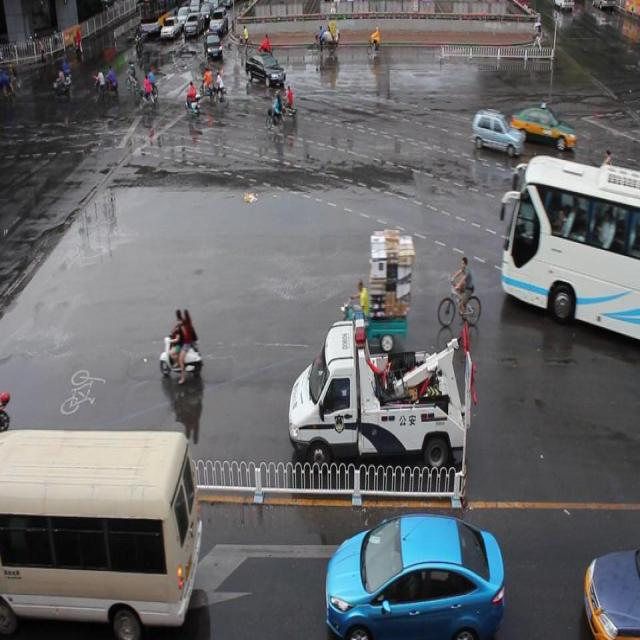bus: (288, 305, 476, 476)
car: (325, 512, 503, 640), (582, 545, 640, 640), (511, 102, 576, 152), (470, 107, 522, 155), (245, 46, 286, 87), (205, 30, 223, 61)
truck: (1, 425, 202, 640)
van: (498, 154, 640, 342)
